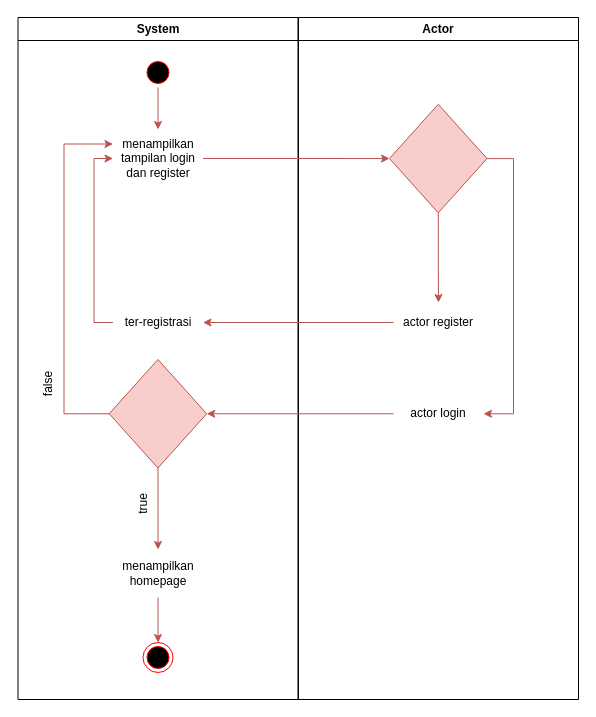
The diagram is 596 pixels wide and 717 high, and some of its shapes have lost their labels. The centre of each missing label's shape, as x and y in pixels:
"Login / Register" belongs at point (437, 158).
"validasi sandi" belongs at point (157, 413).
